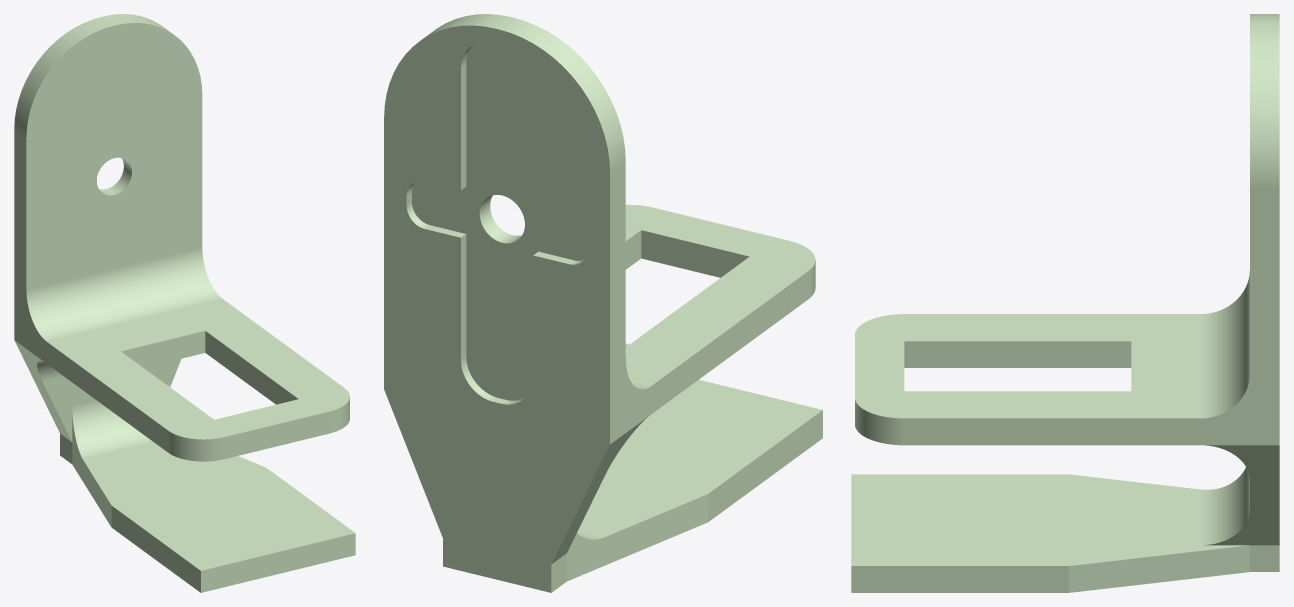
3 views of the same model, side by side, from view 1: azimuth 30°, elevation 25°; view 2: azimuth 150°, elevation 25°; view 3: azimuth 270°, elevation 25° (orthographic). The views are drawn at different scales.
Visible parts, largest first — view 1: mesh145, mesh165, mesh170, mesh146, mesh150, mesh168, mesh158, mesh152, mesh148, mesh162, mesh172, mesh157 (+5 smaller); view 2: mesh175, mesh176, mesh165, mesh170, mesh150, mesh161, mesh148, mesh162, mesh171, mesh155, mesh177, mesh183 (+2 smaller); view 3: mesh165, mesh170, mesh154, mesh174, mesh167, mesh146, mesh166, mesh149, mesh159, mesh158, mesh153, mesh163.
Part boxes in pixels (x1,y1,x2,y2): mesh145: (26,23,202,289); mesh165: (83,442,355,570); mesh170: (47,299,349,439); mesh146: (26,247,222,341); mesh150: (14,129,168,452); mesh168: (201,533,355,592); mesh158: (72,381,172,459); mesh152: (224,411,329,459); mesh148: (14,17,112,137); mesh162: (111,506,200,592); mesh172: (205,331,298,404); mesh157: (43,358,181,441); mesh175: (384,25,609,592); mesh176: (412,41,587,400); mesh165: (578,380,822,536); mesh170: (625,204,815,385); mesh150: (610,162,808,444); mesh161: (567,494,707,581); mesh148: (499,18,625,172); mesh162: (708,410,822,521); mesh171: (641,230,749,277); mesh155: (551,417,647,564); mesh177: (461,234,466,359); mesh183: (461,65,466,189); mesh165: (851,474,1247,565); mesh170: (855,314,1200,418); mesh154: (904,188,1279,445); mesh174: (904,341,1131,367); mesh167: (851,566,1068,592); mesh146: (1200,271,1249,418); mesh166: (1068,545,1249,592); mesh149: (1250,27,1279,188); mesh159: (1204,445,1279,545); mesh158: (1200,467,1249,545); mesh153: (855,400,904,445); mesh163: (1250,545,1279,571).
Size of the model in its own units: 0.025 by 0.0582 by 0.0433.
